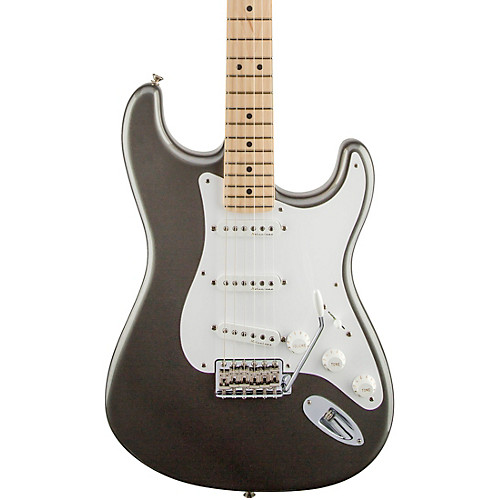ElectricGuitar: (123, 1, 401, 499)
